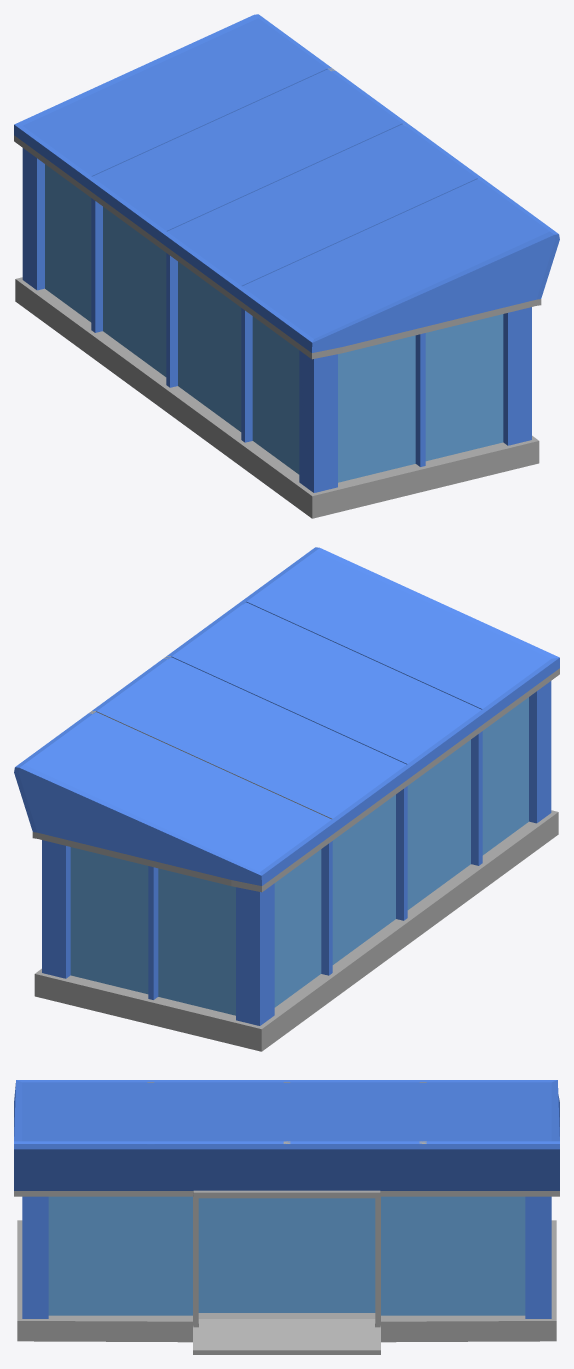
File: building_1x2_0_g.glb
3 renders of one model, top to bottom at view 1: azimuth 30°, elevation 25°; view 2: azimuth 150°, elevation 25°; view 3: azimuth 270°, elevation 25°, orthographic. The views are drawn at different scales.
Visible parts, largest first — view 1: Cube.001; view 2: Cube.001; view 3: Cube.001.
Part boxes in pixels (left/top/right/bottom): Cube.001: left=14, top=14, right=559, bottom=518; Cube.001: left=14, top=547, right=559, bottom=1051; Cube.001: left=14, top=1080, right=559, bottom=1354.
Size of the model in its own units: 1.92 by 1.61 by 3.88.
